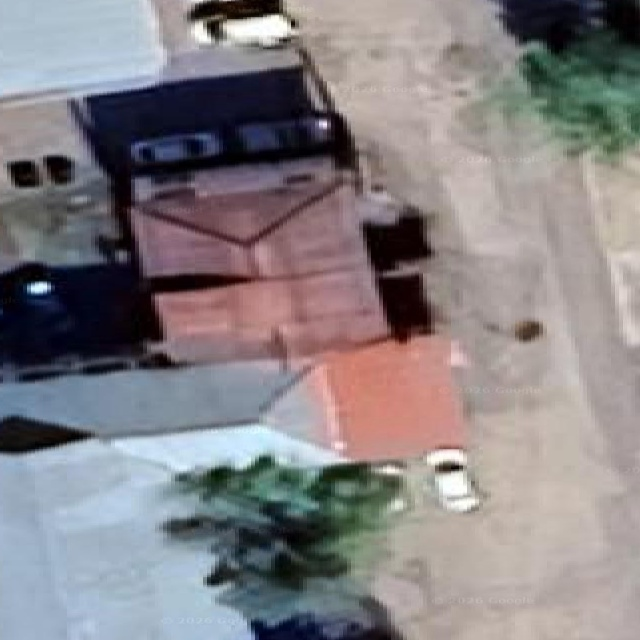car: (187, 0, 296, 47), (424, 448, 479, 512)
